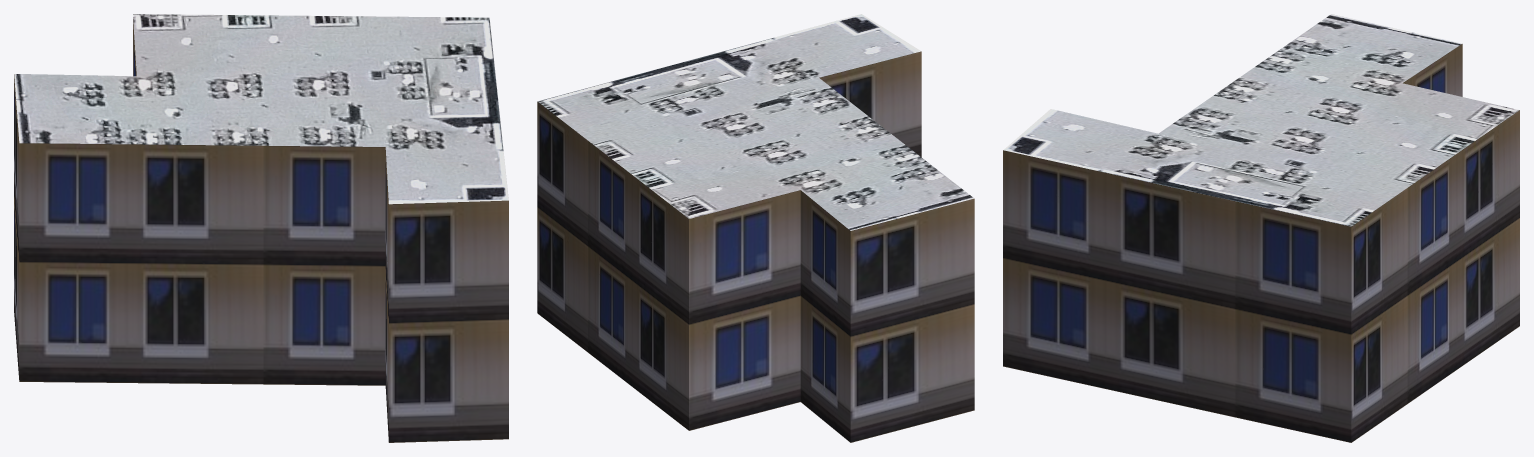
Rendered from ResTex__662.fbx.
3 views of the same model, side by side, from view 1: azimuth 30°, elevation 25°; view 2: azimuth 150°, elevation 25°; view 3: azimuth 270°, elevation 25° (orthographic). The views are drawn at different scales.
Parts seen in each view (by area): view 1: CityEngineMaterial_5_m, CityEngineMaterial_8_m; view 2: CityEngineMaterial_5_m, CityEngineMaterial_8_m; view 3: CityEngineMaterial_5_m, CityEngineMaterial_8_m.
Boxes of the visible parts, x1=… form: CityEngineMaterial_5_m: x1=14, y1=19, x2=508, y2=442; CityEngineMaterial_8_m: x1=14, y1=14, x2=508, y2=204; CityEngineMaterial_5_m: x1=537, y1=51, x2=974, y2=442; CityEngineMaterial_8_m: x1=537, y1=14, x2=973, y2=230; CityEngineMaterial_5_m: x1=1003, y1=44, x2=1519, y2=442; CityEngineMaterial_8_m: x1=1003, y1=14, x2=1519, y2=226.
Bounding box in the file's own units: 12.66 × 6 × 12.99.
2 materials, 2 textured.
